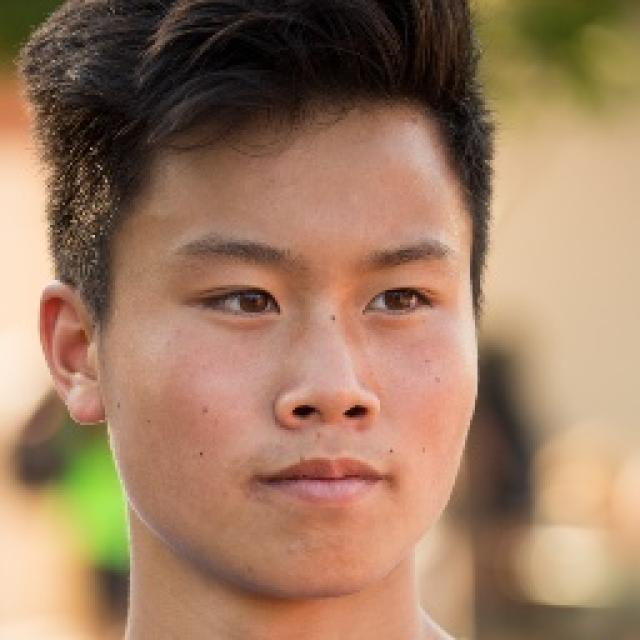earlobe: (38, 285, 108, 427)
